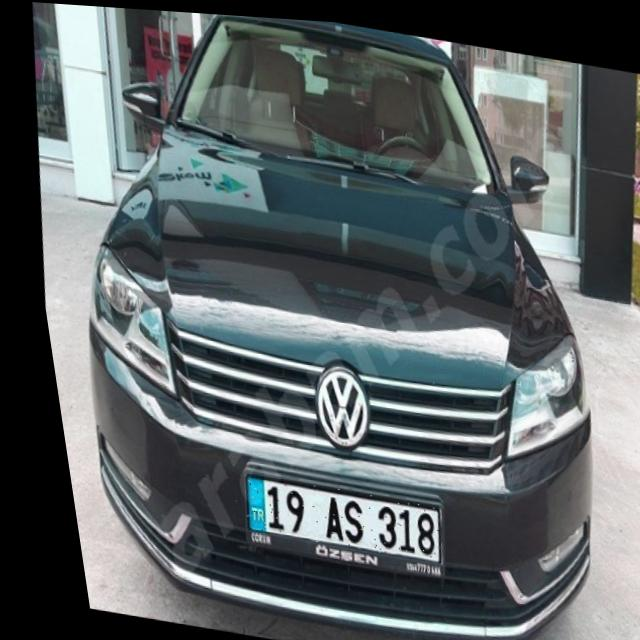license_plate: (224, 469, 430, 558)
